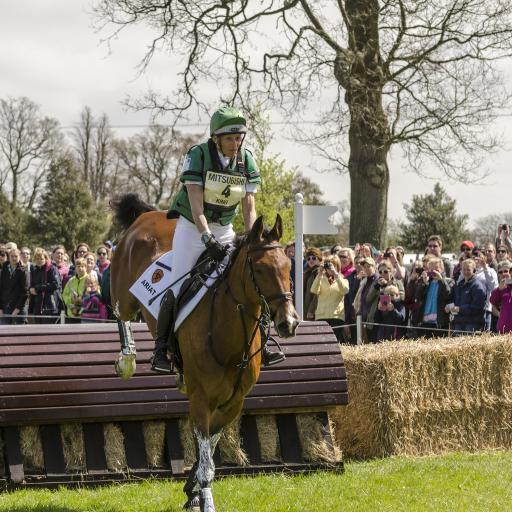horse: (110, 192, 302, 512)
